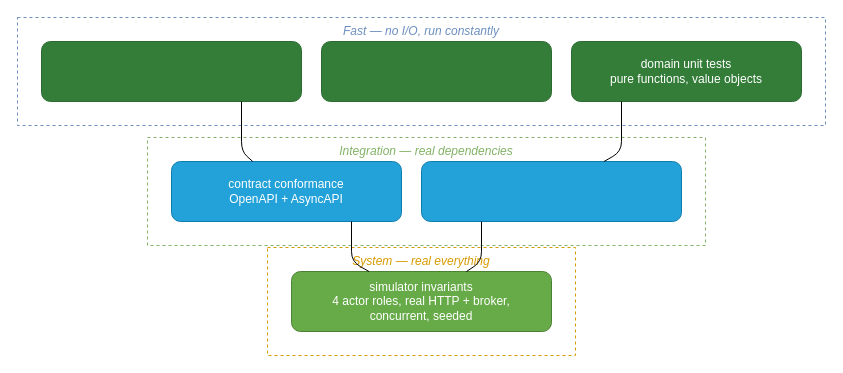
Some shapes in this 843 by 373 pixel diagram are drawn without their labels. The centre of each missing label's shape, as x and y in pixels:
"application tests fake repos, InMemoryPublisher, FrozenClock" belongs at (171,71).
"property tests Hypothesis stateful FSM" belongs at (436,71).
"repositories, outbox relay, consumers, inbox (testcontainers)" belongs at (551,191).
